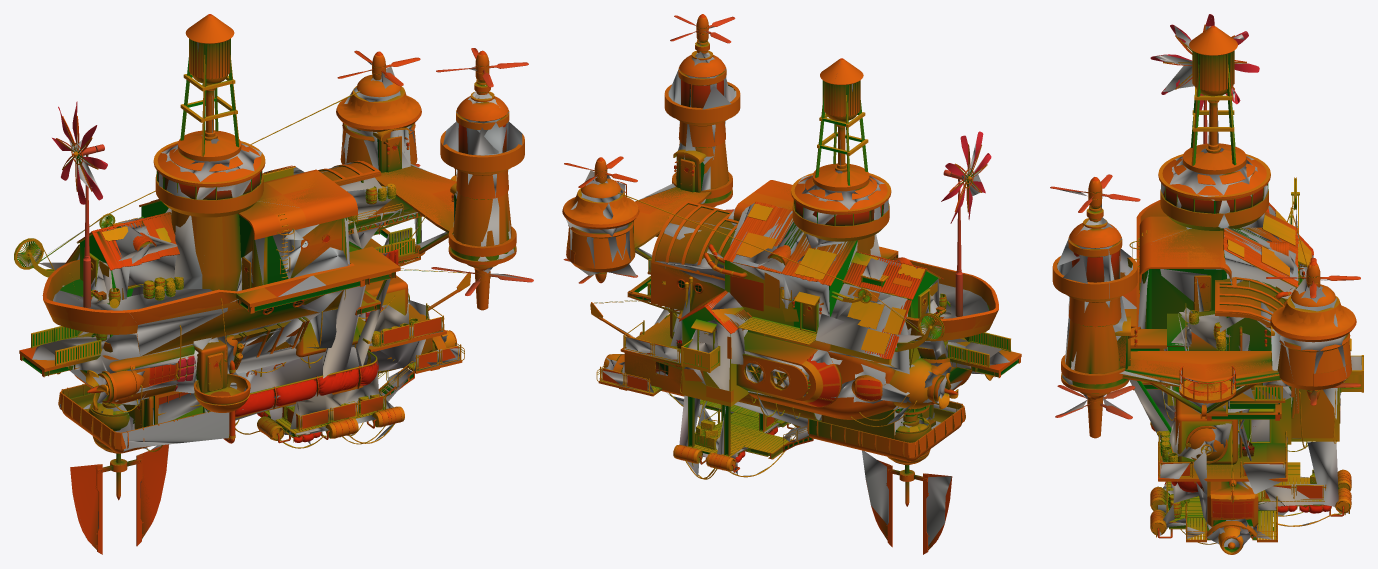
Rendered from KB3D_CSK_BldgMdResClusterA_A.glb.
3 views of the same model, side by side, from view 1: azimuth 30°, elevation 25°; view 2: azimuth 150°, elevation 25°; view 3: azimuth 270°, elevation 25° (orthographic). The views are drawn at different scales.
Parts seen in each view (by area): view 1: L0, L2, L1; view 2: L0, L1, L2; view 3: L0, L2, L1.
Part boxes in pixels (x1,y1,x2,y2): L0: (14, 14, 533, 554); L2: (18, 42, 527, 537); L1: (14, 14, 531, 545); L0: (562, 14, 1021, 554); L1: (563, 17, 1021, 554); L2: (566, 26, 1009, 545); L0: (1050, 14, 1363, 554); L2: (1057, 25, 1361, 547); L1: (1051, 14, 1359, 553).
Bounding box in the file's own units: 32.37 × 34.12 × 18.49.
